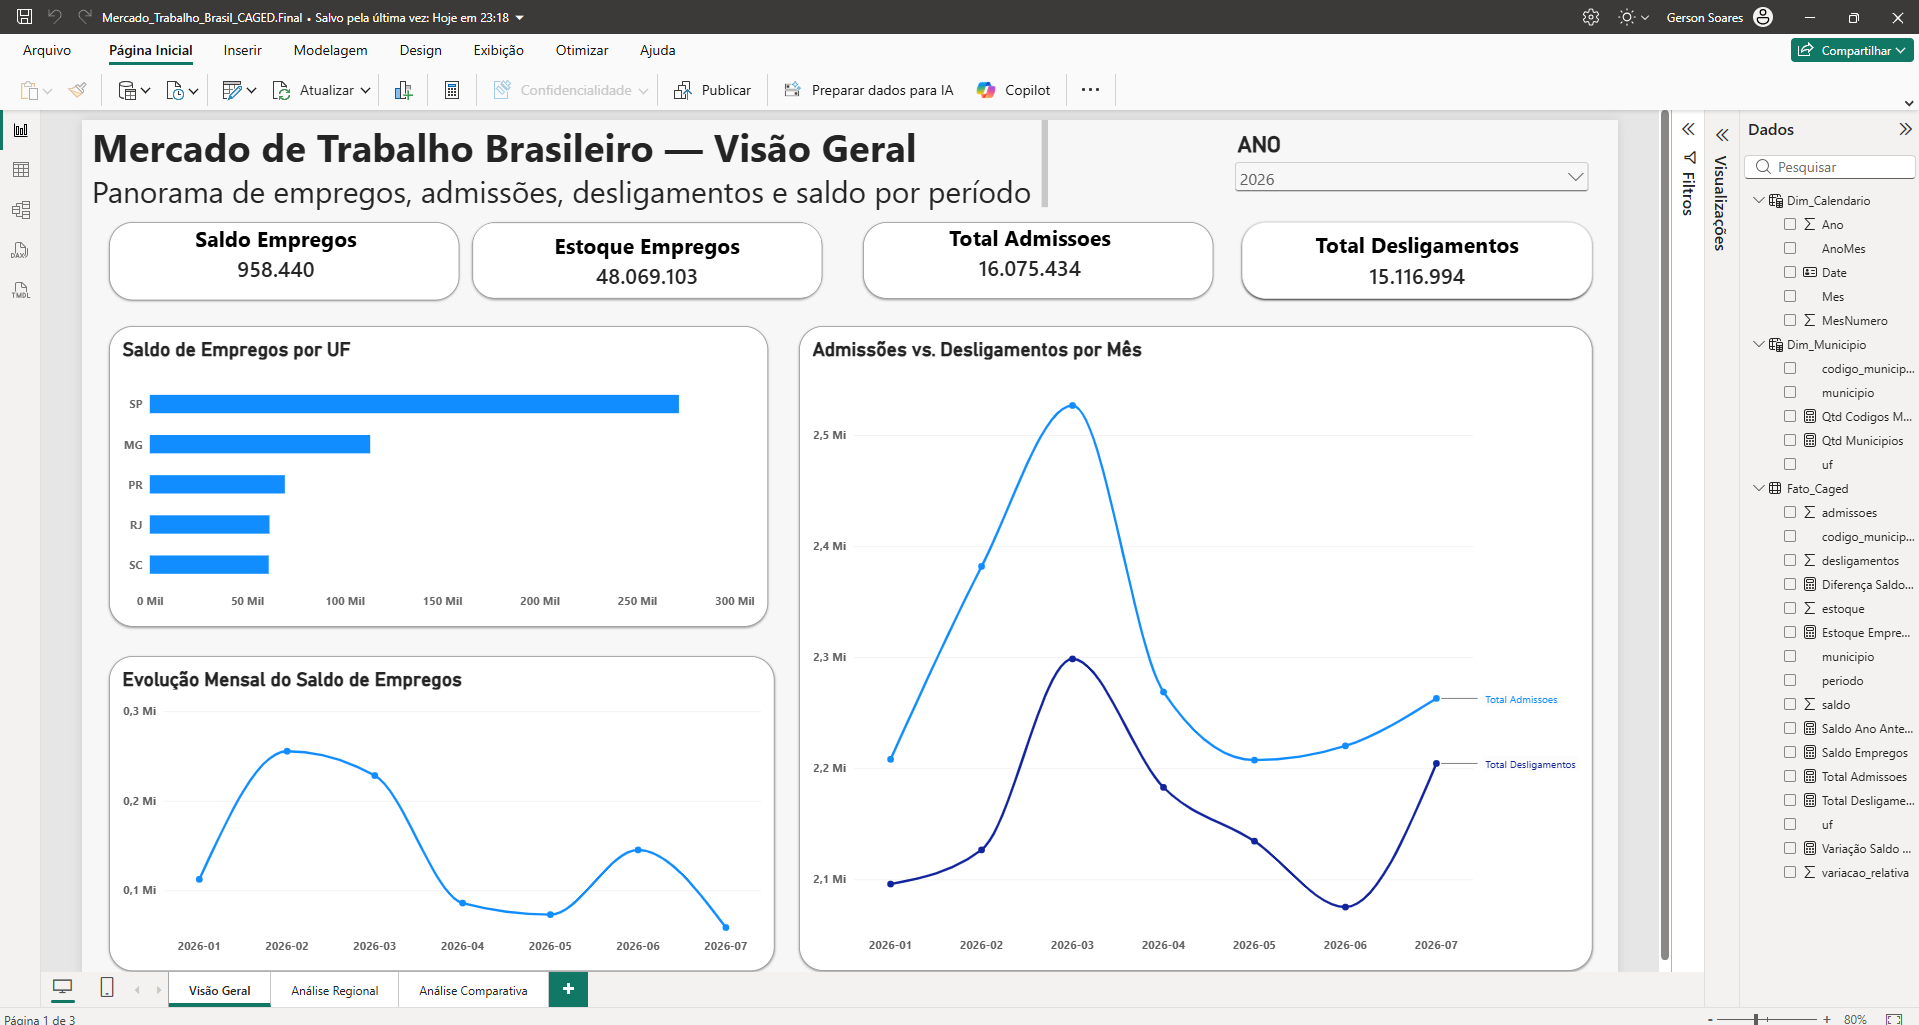

The dashboard page shown, as its layout file describes it:
{"tool":"powerbi","page":{"name":"Visão Geral","canvas":[1920,1080],"ordinal":0},"visuals":[{"type":"cardVisual","title":"Saldo Empregos","fields":{"Data":["Fato_Caged.Saldo Empregos"]},"box":[34,128,438,98],"z":0},{"type":"cardVisual","fields":{"Data":["Fato_Caged.Estoque Empregos"]},"box":[488,128,438,96],"z":1000},{"type":"cardVisual","fields":{"Data":["Fato_Caged.Total Desligamentos"]},"box":[1450,128,438,96],"z":3000},{"type":"slicer","fields":{"Values":["Dim_Calendario.Ano"]},"box":[1436,14,452,76],"z":4000},{"type":"lineChart","title":"Evolução Mensal do Saldo de Empregos","fields":{"Category":["Dim_Calendario.AnoMes"],"Y":["Fato_Caged.Saldo Empregos"]},"box":[34,670,832,394],"z":5000},{"type":"lineChart","title":"Admissões vs. Desligamentos por Mês","fields":{"Category":["Dim_Calendario.AnoMes"],"Y":["Fato_Caged.Total Admissoes","Fato_Caged.Total Desligamentos"]},"box":[896,258,992,806],"z":6000},{"type":"clusteredBarChart","title":"Saldo de Empregos por UF","fields":{"Category":["Fato_Caged.uf"],"Y":["Fato_Caged.Saldo Empregos"]},"box":[34,258,824,376],"z":7000},{"type":"cardVisual","fields":{"Data":["Fato_Caged.Total Admissoes"]},"box":[976,128,438,96],"z":7001},{"type":"textbox","box":[12.7,0,1195.5,128.2],"z":7002}]}

Visuals, with their boxes on the page's 1920x1080 design canvas (x1, y1, x2, y2). These are canvas units, not pixel positions in the 1919x1025 screenshot, which may show the page scaled, cropped or inside an application window:
"Saldo Empregos" cardVisual: 34/128/472/226
cardVisual - Fato_Caged.Estoque Empregos: 488/128/926/224
cardVisual - Fato_Caged.Total Desligamentos: 1450/128/1888/224
slicer - Dim_Calendario.Ano: 1436/14/1888/90
"Evolução Mensal do Saldo de Empregos" lineChart: 34/670/866/1064
"Admissões vs. Desligamentos por Mês" lineChart: 896/258/1888/1064
"Saldo de Empregos por UF" clusteredBarChart: 34/258/858/634
cardVisual - Fato_Caged.Total Admissoes: 976/128/1414/224
textbox: 13/0/1208/128
